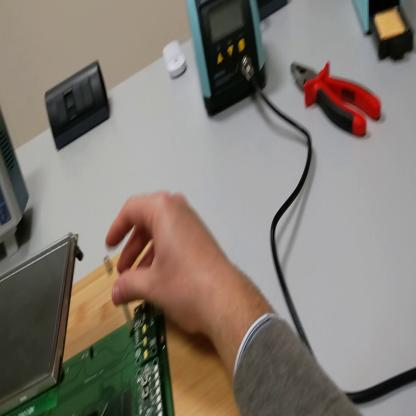hand: (107, 190, 223, 338)
low voltage board: (1, 232, 172, 415)
oscilloscope: (2, 109, 31, 260)
pliers: (291, 59, 383, 139)
socket: (257, 1, 290, 26)
welder base: (353, 2, 414, 67)
welder station: (186, 3, 269, 121)
working area: (64, 251, 240, 412)
